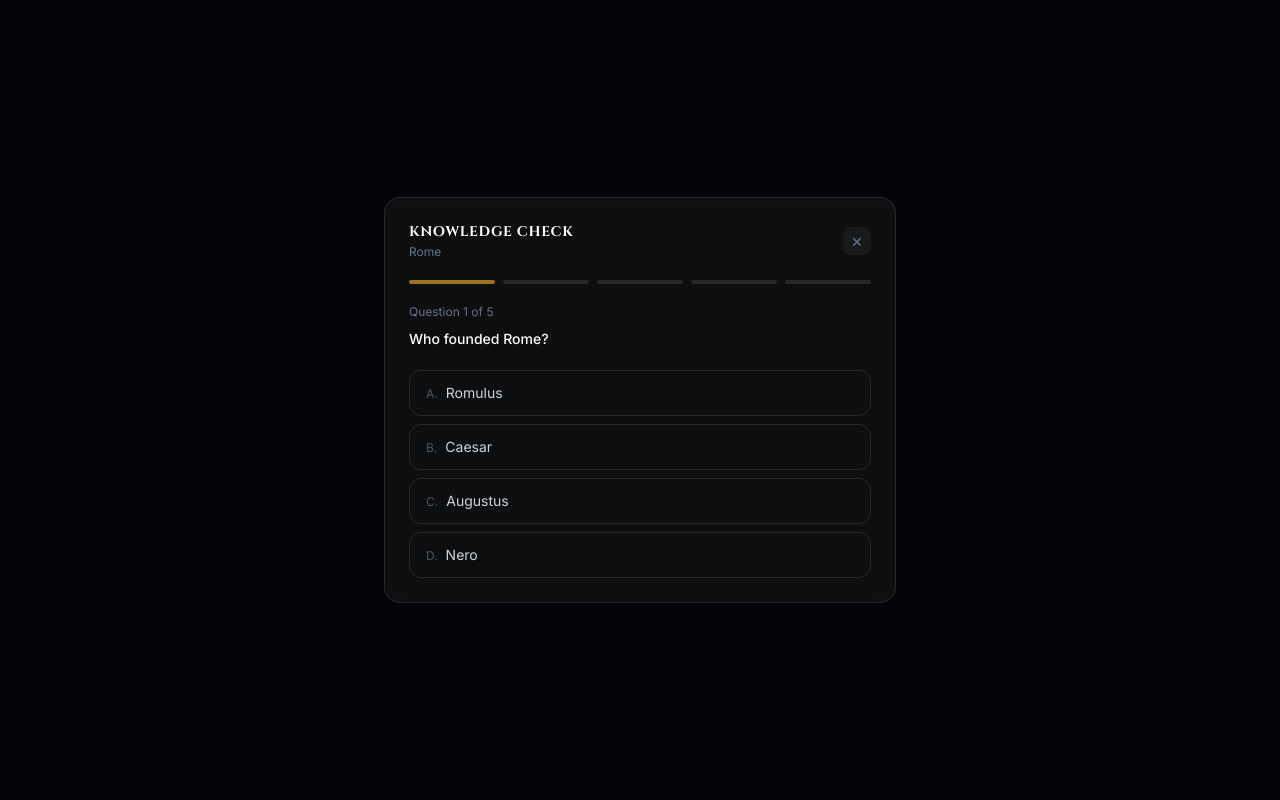
Test: QuizModal › shows explanation after selecting an answer
The image size is (1280, 800).
Check: the text "Who founded Rome?" is shown, box x1=409 y1=330 x2=548 y2=347
What coordinates should you click on to do the following:
click the button "A.Romulus"
I would click on:
 (474, 393)
Its box is x1=409 y1=370 x2=871 y2=416.
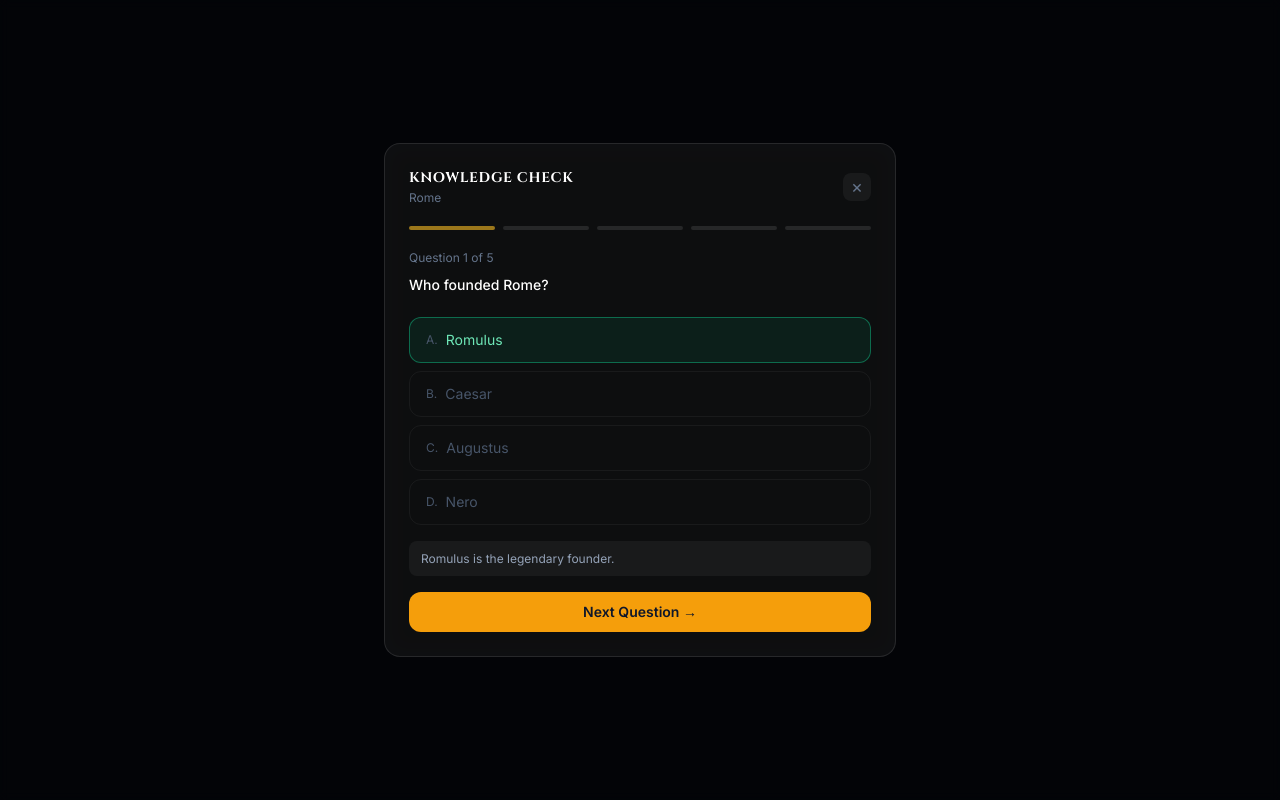
Check: the text "Romulus is the legendary founder." is shown, box x1=409 y1=541 x2=871 y2=576
